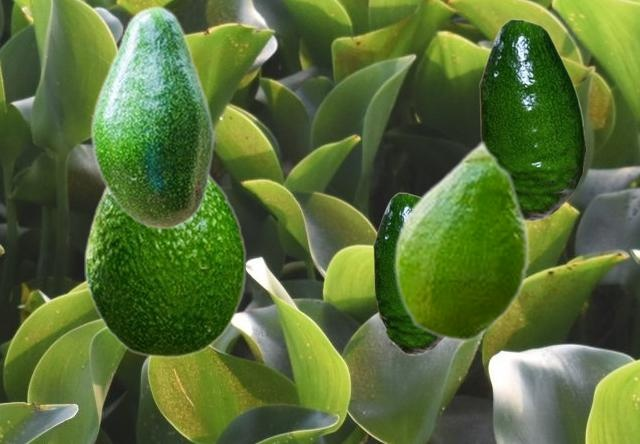avocado: (84, 174, 246, 357), (89, 5, 213, 229), (393, 139, 529, 341), (479, 18, 585, 220), (373, 192, 441, 354)
